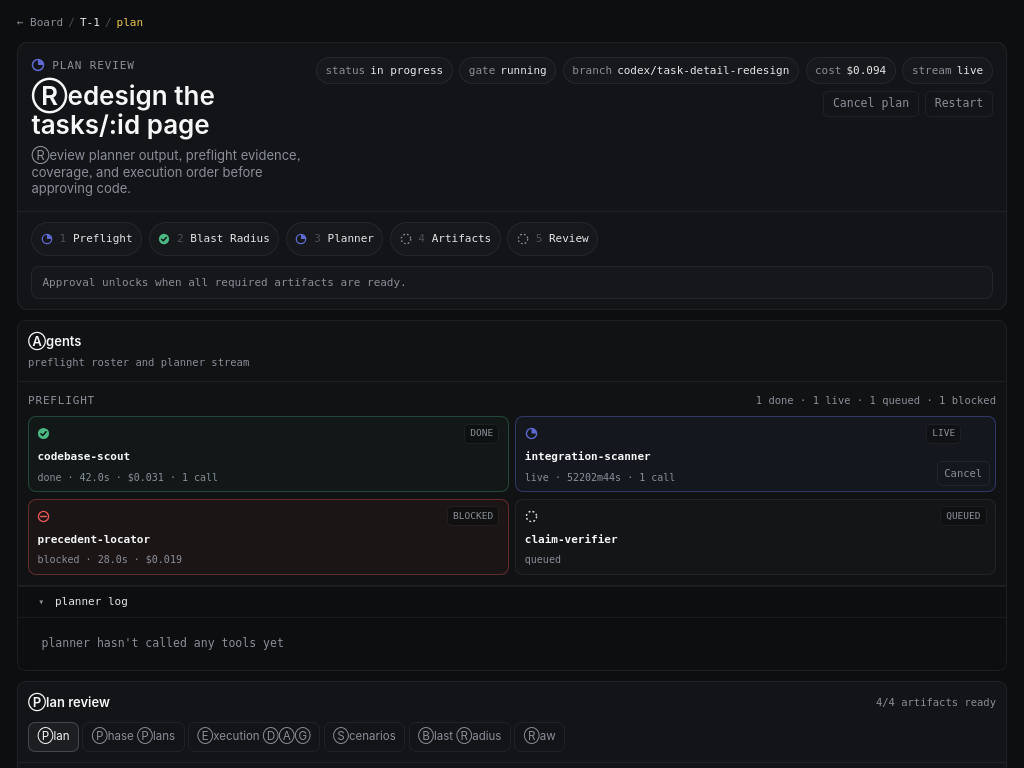
PlanConsole › opens phase cancel confirmation from an active agent row
The width and height of the screenshot is (1024, 768).
Click the button "Cancel": [963, 473] box [936,461,990,486]
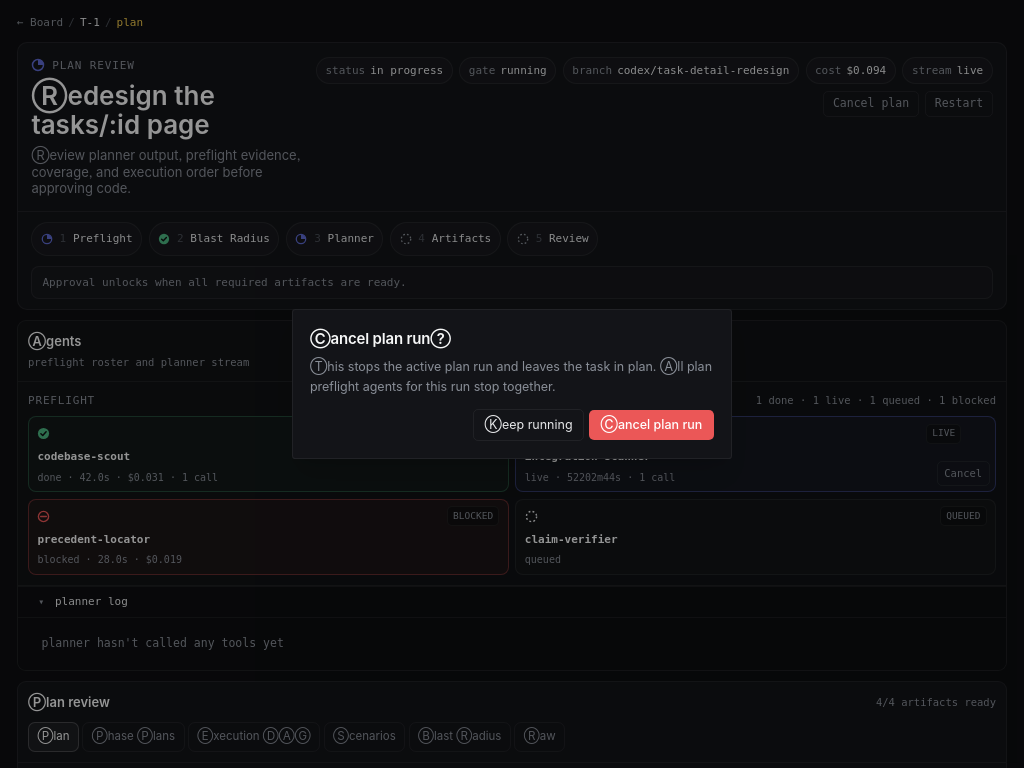
Now the dialog "Cancel plan run" is shown
Now the text "All plan preflight agents" is shown, box [310,359,712,394]
